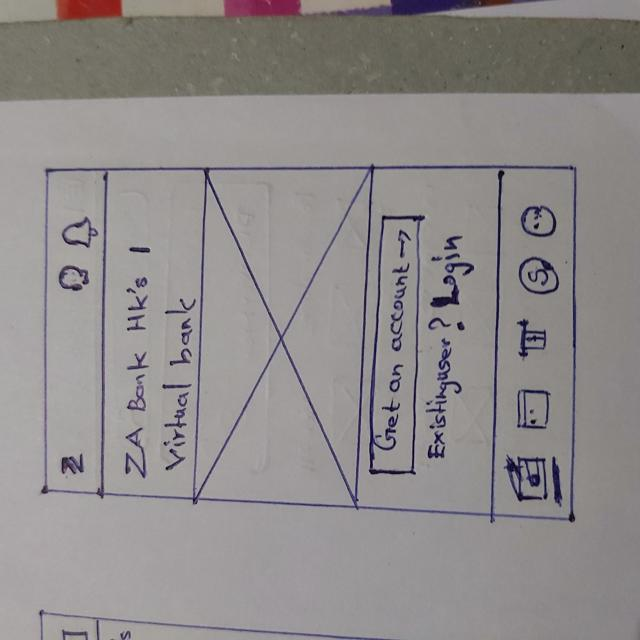ActionButton: (41, 260, 108, 301), (60, 213, 104, 256)
AppBar: (41, 166, 105, 495)
BottomNavBar: (494, 164, 574, 518)
BottomNavItems: (491, 448, 575, 521), (493, 383, 575, 442), (497, 254, 576, 315), (501, 316, 574, 376), (494, 195, 575, 249)
Button: (373, 213, 418, 478)
DrawerToggleButton: (55, 448, 89, 482)
Icon: (504, 453, 563, 507), (517, 255, 563, 295), (516, 386, 552, 434), (516, 319, 550, 361), (518, 205, 557, 241), (65, 217, 96, 251), (57, 263, 91, 294), (392, 226, 413, 265)
Image: (199, 165, 364, 504)
MainLayout: (38, 160, 583, 526)
TextView: (116, 240, 152, 477), (427, 318, 462, 469), (161, 294, 188, 475), (430, 233, 469, 309)
